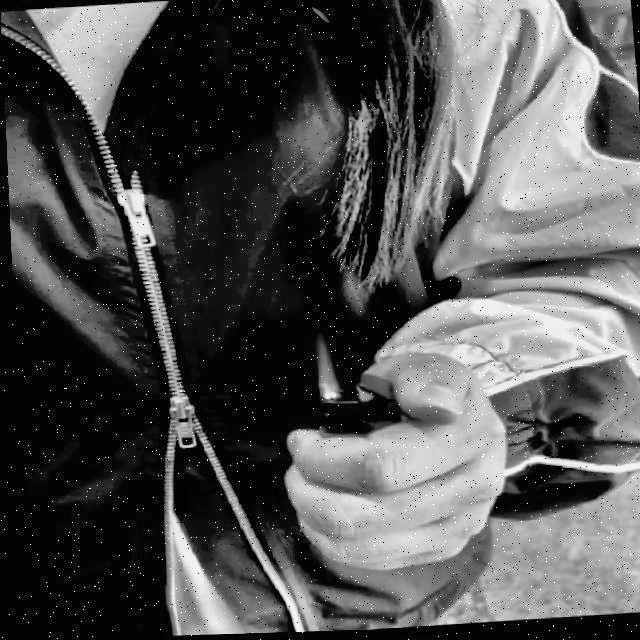Fire: (308, 336, 338, 396)
